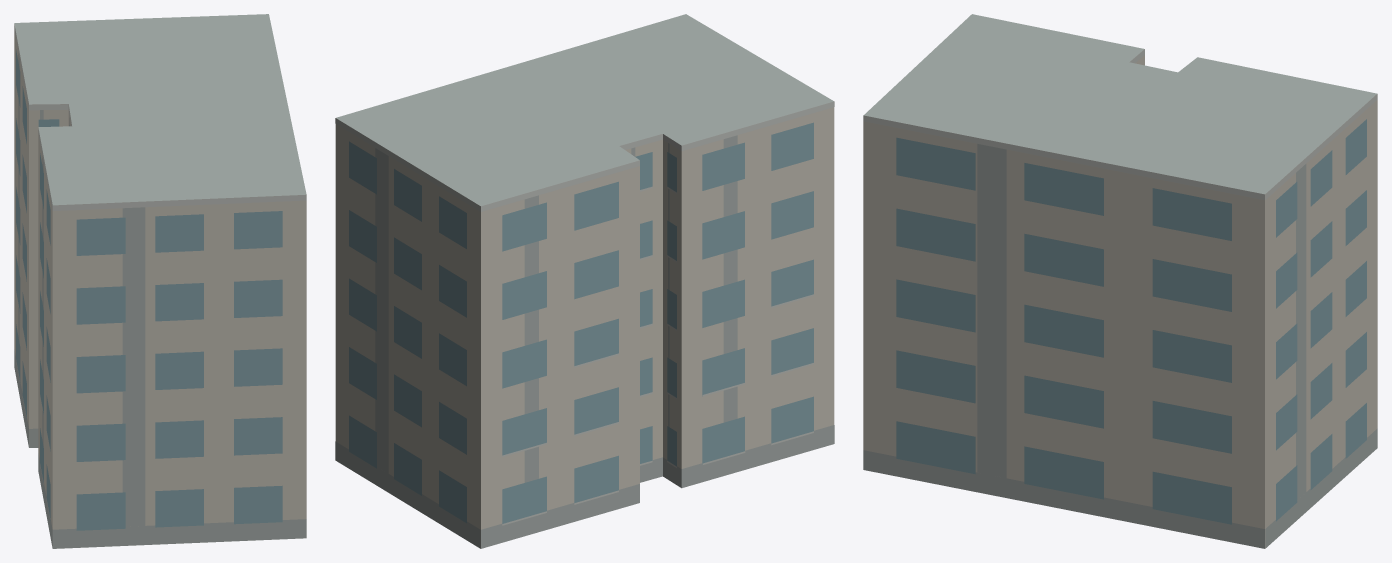
File: survey-upis-32675398.glb
The picture shows the model from 3 angles, left to right: view 1: azimuth 30°, elevation 25°; view 2: azimuth 150°, elevation 25°; view 3: azimuth 270°, elevation 25°; orthographic projection. The views are drawn at different scales.
Visible parts, largest first — view 1: survey-upis-32675398.tmp; view 2: survey-upis-32675398.tmp; view 3: survey-upis-32675398.tmp.
Boxes of the visible parts, x1,y1,x2,y2 form: survey-upis-32675398.tmp: (14,14,306,548); survey-upis-32675398.tmp: (335,14,834,548); survey-upis-32675398.tmp: (863,14,1377,548).
Size of the model in its own units: 15.83 by 14.5 by 19.07.
